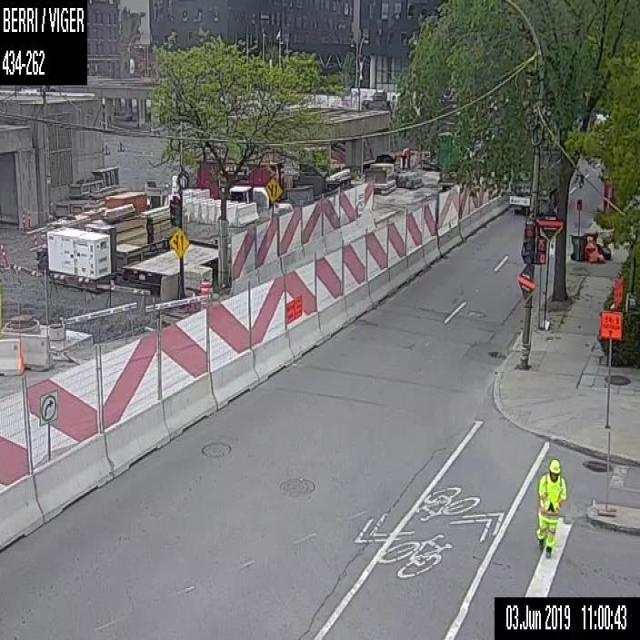construction: (597, 308, 617, 432), (200, 278, 210, 313)
pedestrian: (534, 456, 568, 559)
